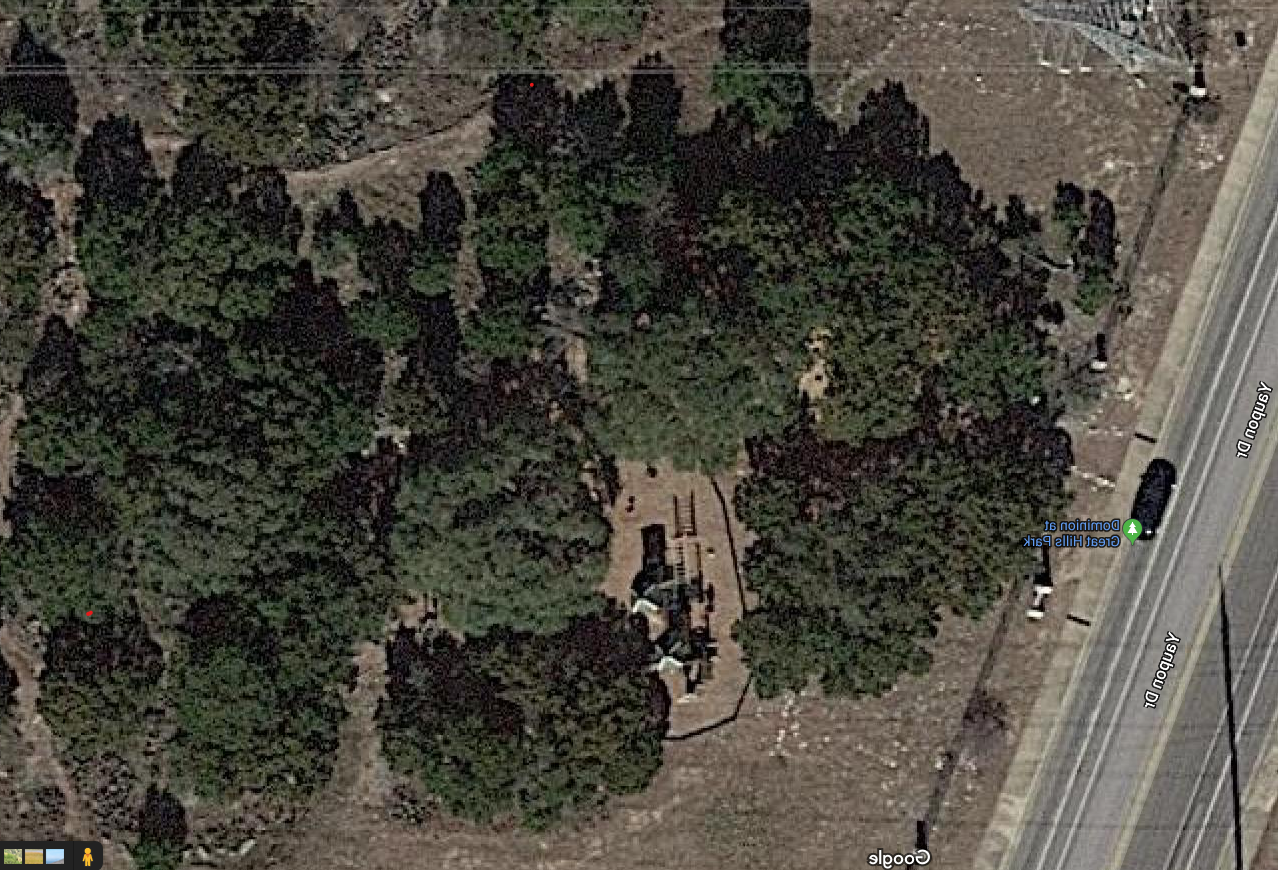playscape: (576, 472, 772, 788)
